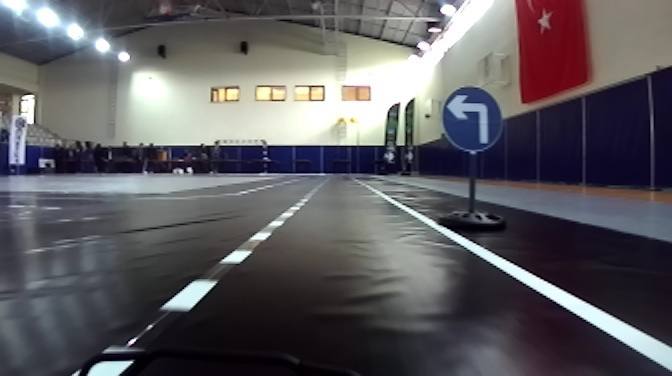sola_donus: (439, 87, 504, 156)
